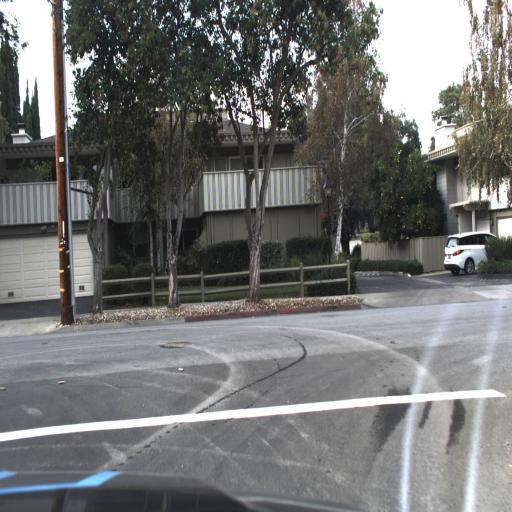car: (441, 229, 499, 274), (445, 232, 496, 272)
